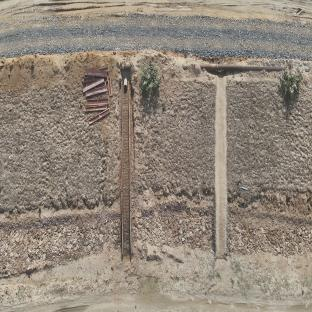rock_toe: (0, 211, 118, 277), (131, 212, 215, 262), (230, 217, 312, 258)
slope_drain: (214, 74, 227, 260), (121, 75, 132, 257)
